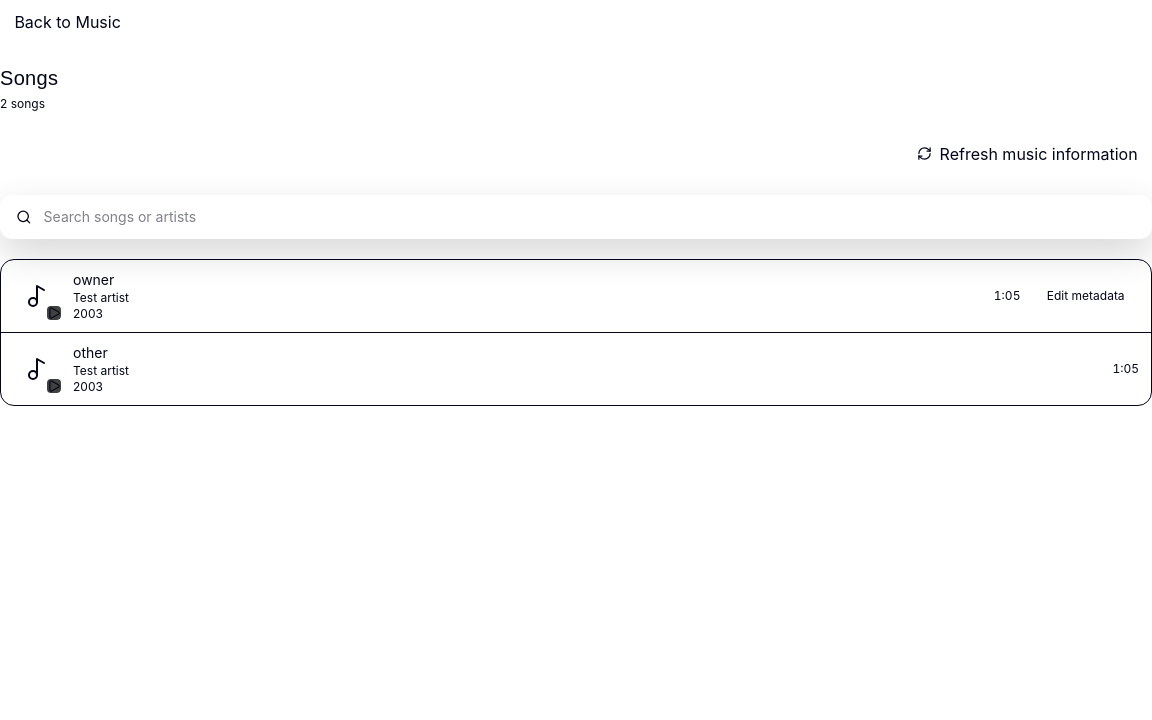
Test: failed owner correction retains the draft; non-owner has no edit entry
Click the button "Edit metadata": (1086, 296) x1=1032 y1=274 x2=1139 y2=318
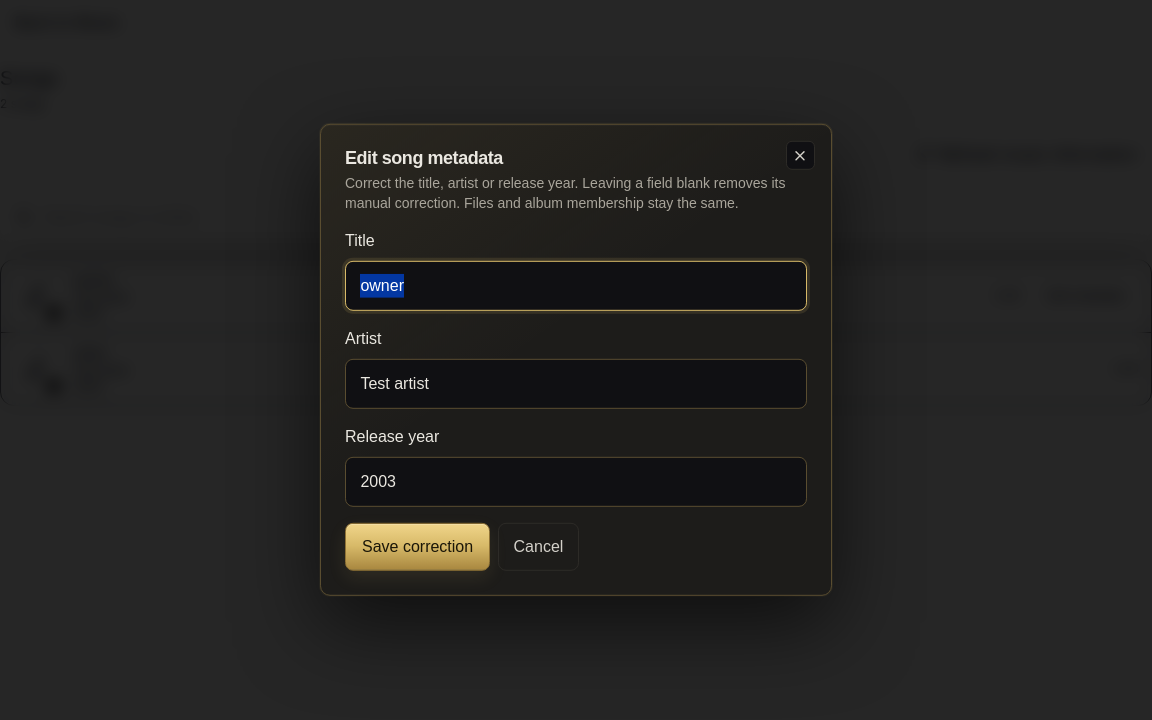
Submit the form, box x1=345 y1=229 x2=807 y2=571
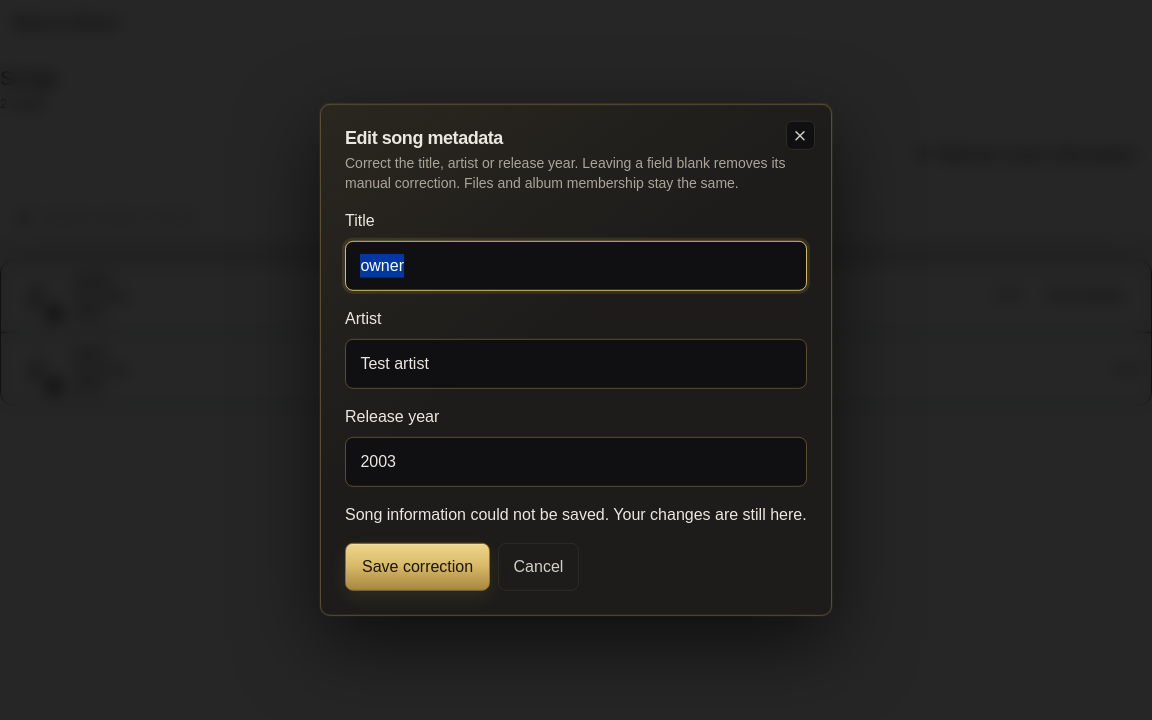
Expected: the field labelled "Title" holds "owner", x1=345 y1=241 x2=807 y2=291
Expected: the message "Song information could not be saved. Your changes are still here." is shown, x1=345 y1=503 x2=807 y2=527
